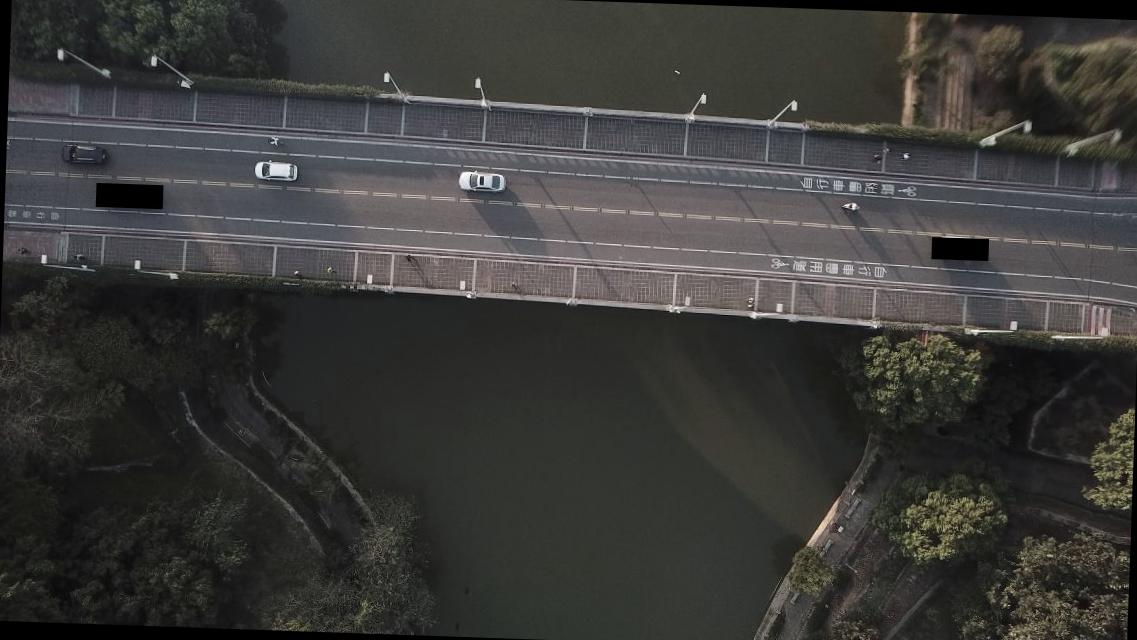vehicle: (456, 169, 506, 194), (60, 143, 105, 166), (252, 160, 297, 182)
